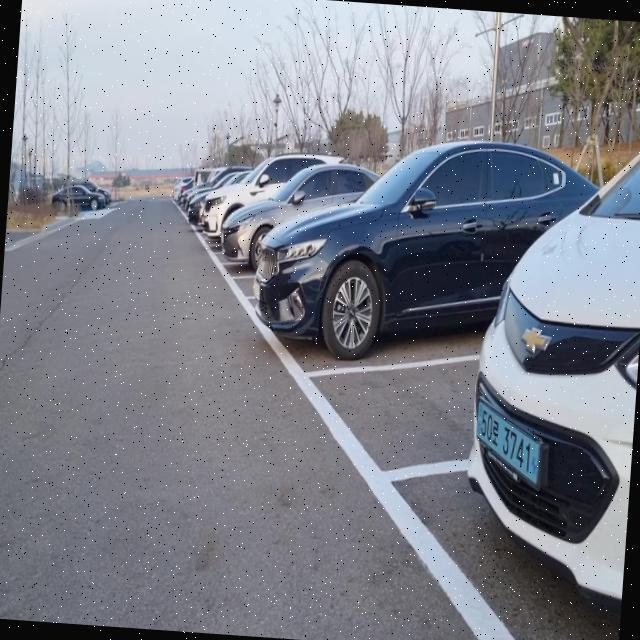Car: (248, 180, 444, 376), (216, 201, 264, 283), (200, 189, 228, 244)
Vacant: (284, 288, 482, 496)
